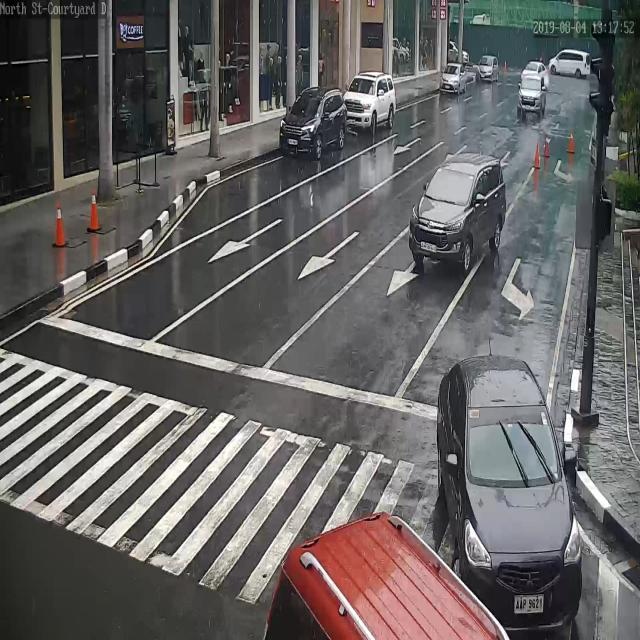car: (438, 352, 581, 631), (262, 511, 510, 640), (409, 152, 506, 272), (278, 87, 348, 158), (343, 74, 396, 133), (518, 72, 545, 118), (440, 63, 467, 94), (521, 61, 549, 87), (477, 55, 499, 83)
van: (550, 50, 592, 78)
